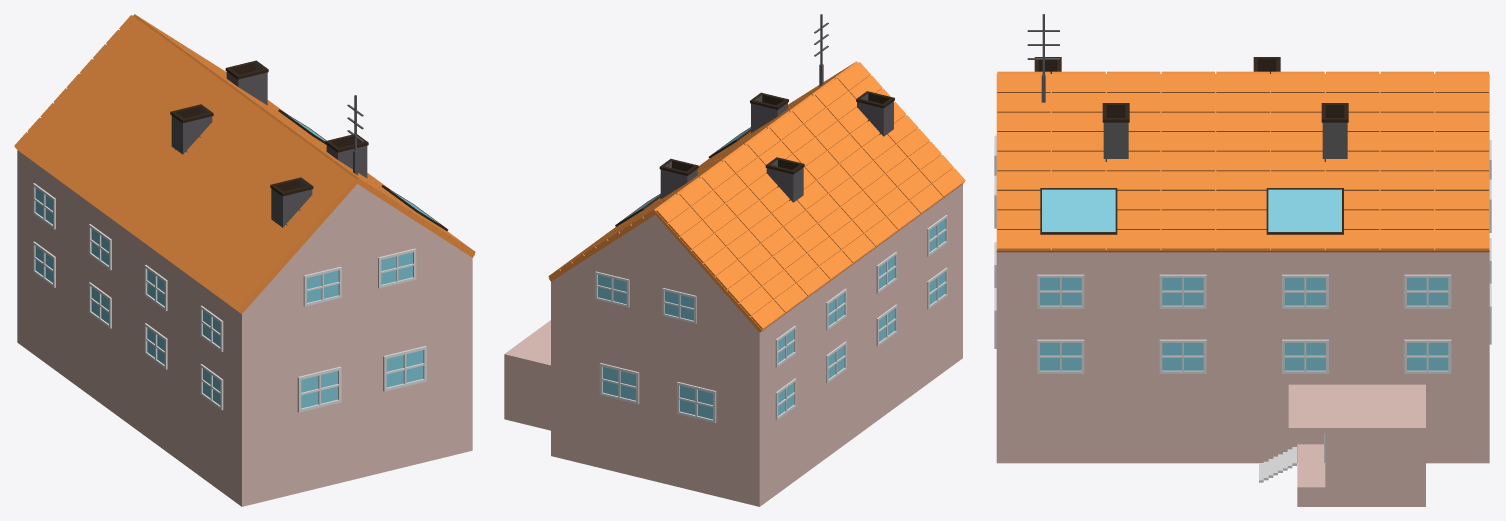
The model's file is house1_H.fbx.
The picture shows the model from 3 angles, left to right: view 1: azimuth 30°, elevation 25°; view 2: azimuth 150°, elevation 25°; view 3: azimuth 270°, elevation 25°; orthographic projection. The views are drawn at different scales.
Parts seen in each view (by area): view 1: Cube.013, Cube.029, Cube.017, Cube.031, Cube.030, Cube.019, Cube.016, Cube.020; view 2: Cube.013, Cube.029, Cube.014, Cube.033, Cube.031, Cube.030, Cube.019, Cube.032, Cube.020; view 3: Cube.013, Cube.014, Cube.015, Cube.026, Cube.027, Cube.028, Cube.020, Cube.019, Cube.023.
Boxes of the visible parts, <box> form: Cube.013: <box>14,14,475,506</box>; Cube.029: <box>242,184,472,314</box>; Cube.017: <box>297,346,426,412</box>; Cube.031: <box>33,241,223,410</box>; Cube.030: <box>33,183,223,351</box>; Cube.019: <box>170,104,313,227</box>; Cube.016: <box>303,248,416,306</box>; Cube.020: <box>225,60,368,178</box>; Cube.013: <box>548,61,965,506</box>; Cube.029: <box>551,215,759,332</box>; Cube.014: <box>504,320,550,430</box>; Cube.033: <box>599,363,716,423</box>; Cube.031: <box>775,267,947,420</box>; Cube.030: <box>775,215,947,367</box>; Cube.019: <box>765,91,894,202</box>; Cube.032: <box>595,271,696,323</box>; Cube.020: <box>659,92,788,198</box>; Cube.013: <box>996,71,1489,463</box>; Cube.014: <box>1288,384,1425,506</box>; Cube.015: <box>1037,274,1451,308</box>; Cube.026: <box>1037,339,1451,373</box>; Cube.027: <box>1040,188,1117,234</box>; Cube.028: <box>1266,188,1343,234</box>; Cube.020: <box>1102,103,1348,161</box>; Cube.019: <box>1034,57,1280,73</box>; Cube.023: <box>1259,447,1296,482</box>.
Bounding box in the file's own units: 15.36 × 19.17 × 16.93.
